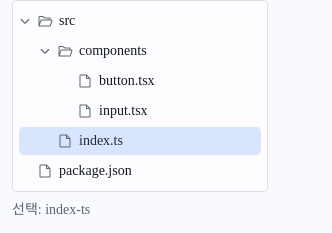
Scenario: tree-view demo › collapses a node on click and hides its children
Click the list item "src".
click(47, 21)  # box [19,13,75,29]
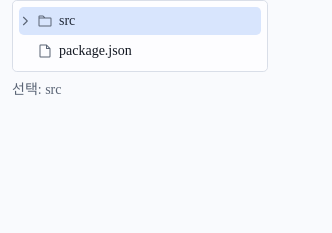
Check: the text "components" is gone
